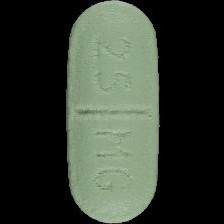54868-5658: (0, 0, 224, 224)
